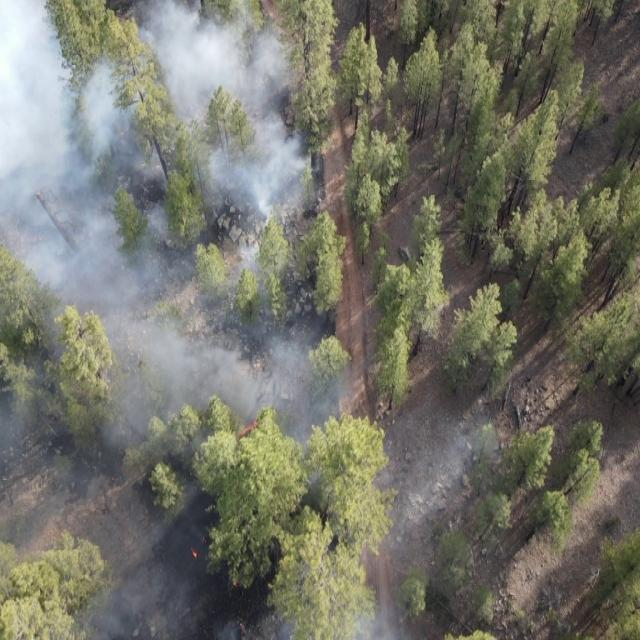fire: (230, 415, 270, 443), (187, 538, 206, 566), (237, 619, 248, 633)
smoke: (1, 0, 322, 640), (321, 372, 489, 640)
